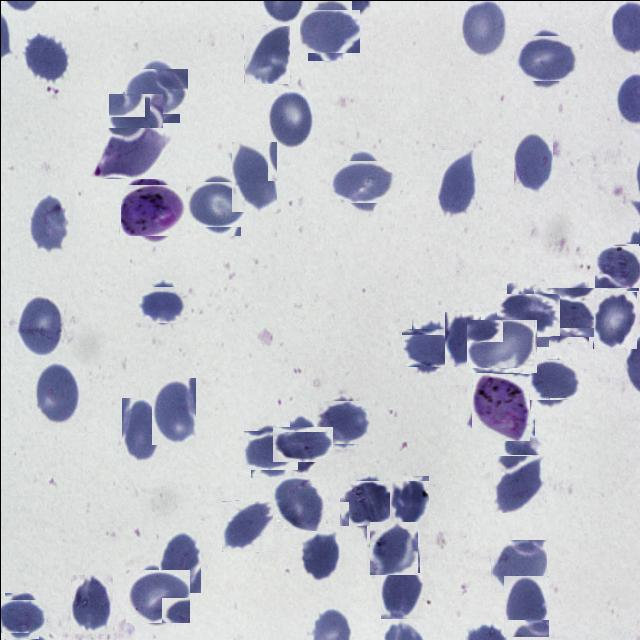difficult: (468, 374, 532, 438), (121, 180, 180, 238)
red blood cell: (90, 127, 170, 178), (470, 314, 532, 376), (127, 566, 186, 625), (230, 140, 276, 211), (518, 30, 574, 85), (536, 284, 592, 339), (490, 538, 546, 592), (492, 454, 544, 512), (16, 294, 63, 358), (33, 361, 79, 426), (151, 377, 195, 444), (336, 154, 390, 208), (129, 64, 183, 118), (270, 476, 324, 530), (190, 177, 244, 230), (502, 574, 548, 636), (266, 89, 312, 149), (501, 288, 554, 340), (437, 149, 477, 217), (243, 24, 289, 83), (342, 476, 394, 528), (303, 4, 355, 56), (121, 397, 161, 463), (158, 530, 200, 592), (367, 522, 418, 573), (220, 500, 272, 550), (592, 290, 636, 348), (514, 131, 554, 193), (70, 574, 112, 633), (461, 0, 506, 55), (23, 31, 71, 82), (28, 193, 68, 252), (319, 397, 367, 446), (406, 323, 454, 371), (246, 426, 294, 474), (278, 420, 326, 468), (111, 89, 159, 137), (380, 564, 422, 618), (528, 355, 575, 403), (388, 474, 428, 528), (300, 531, 340, 581), (444, 311, 480, 366), (595, 244, 639, 288), (141, 282, 184, 326), (1, 595, 41, 635)
